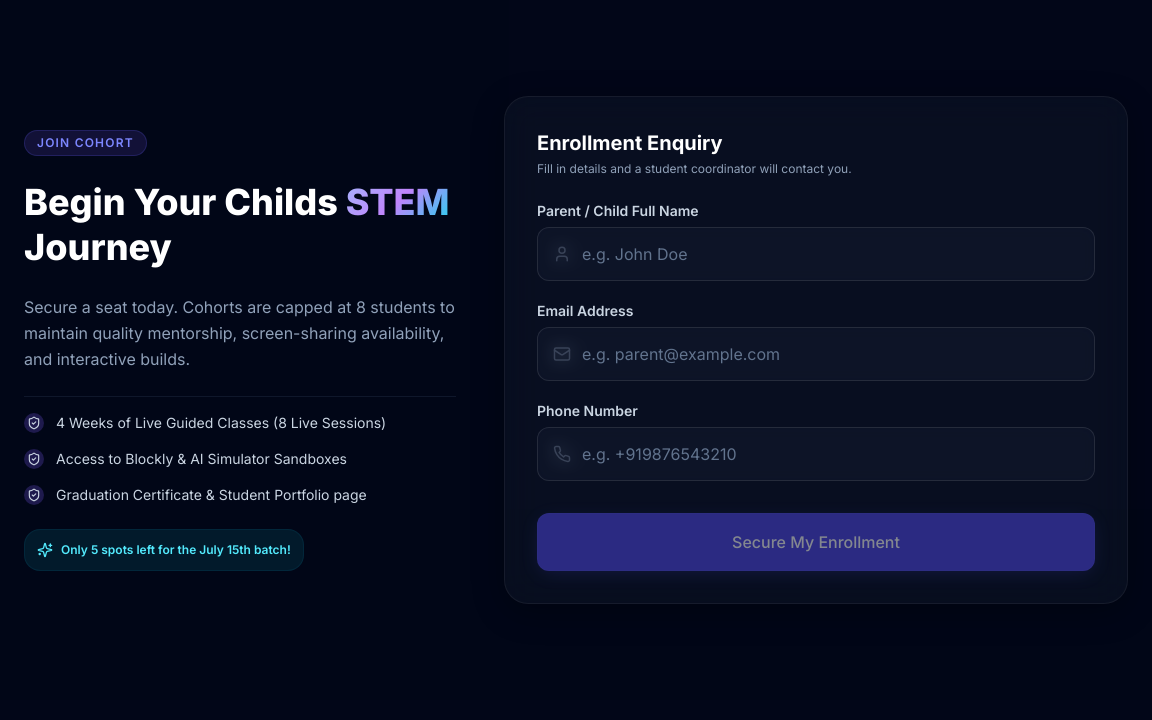
Test case: Registration Form Component › should display live validation errors when invalid information is input
# Enter invalid details
Type "A" into the field labelled "Parent / Child Full Name" at (816, 254), box [537, 227, 1095, 281]
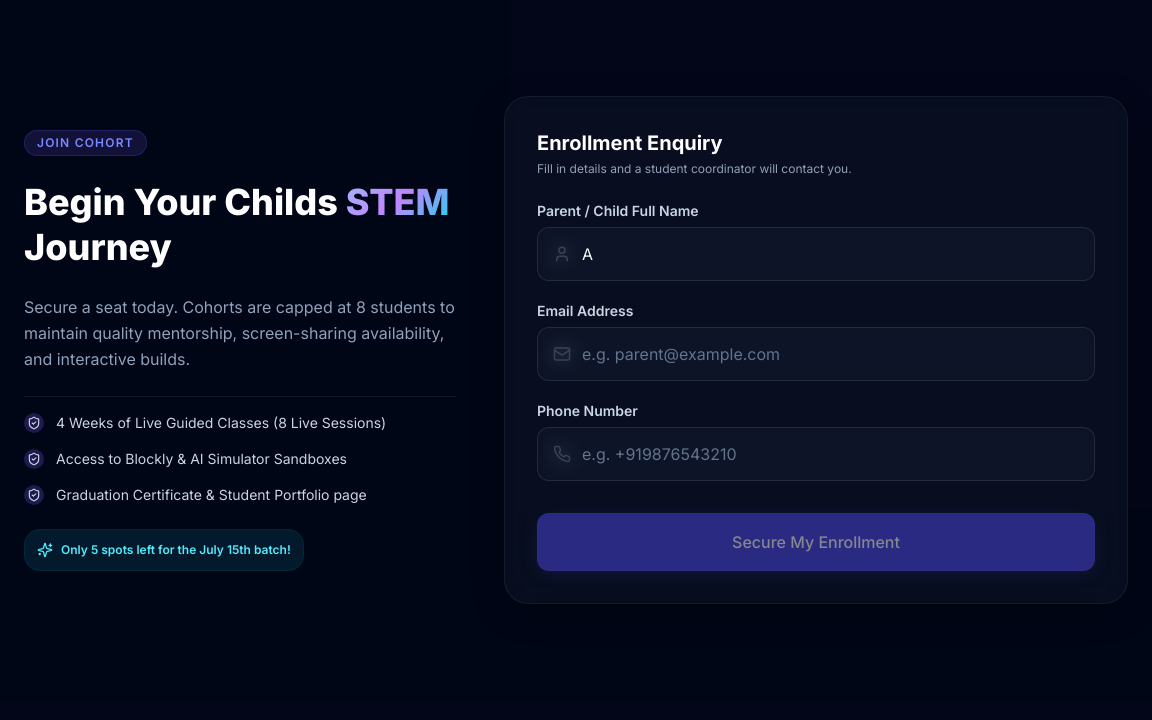
Type "not-an-email" into the field labelled "Email Address" at (816, 354), box [537, 327, 1095, 381]
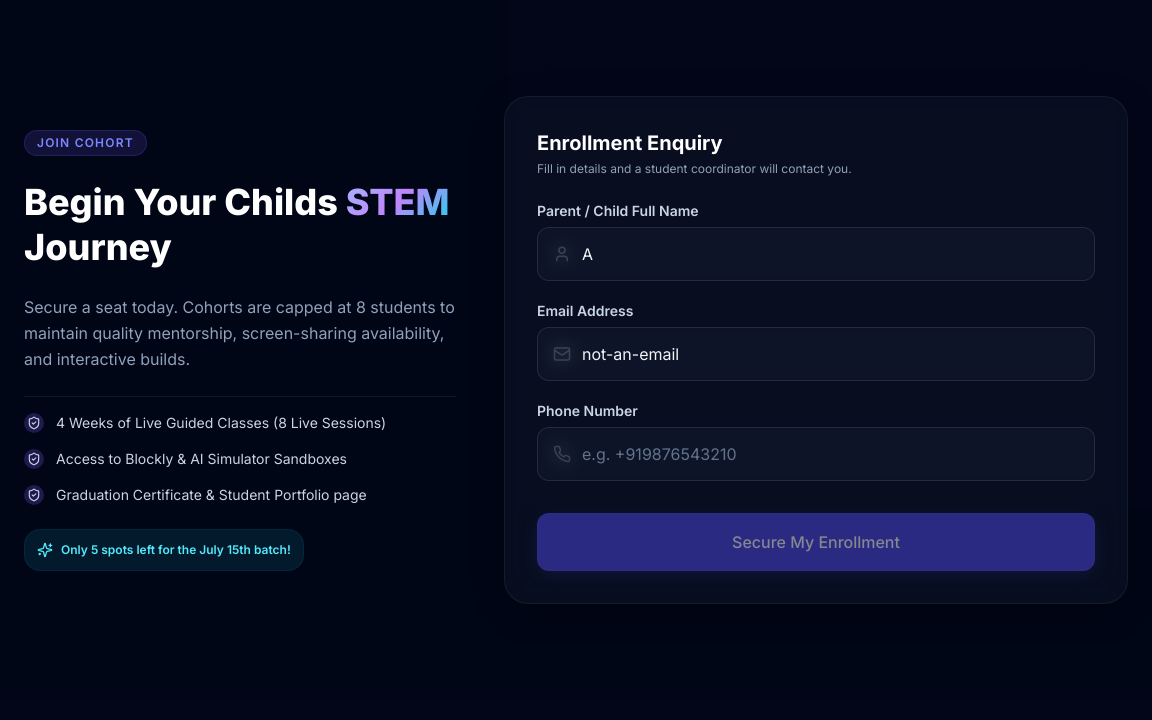
Type "123" into the field labelled "Phone Number" at (816, 454), box [537, 427, 1095, 481]
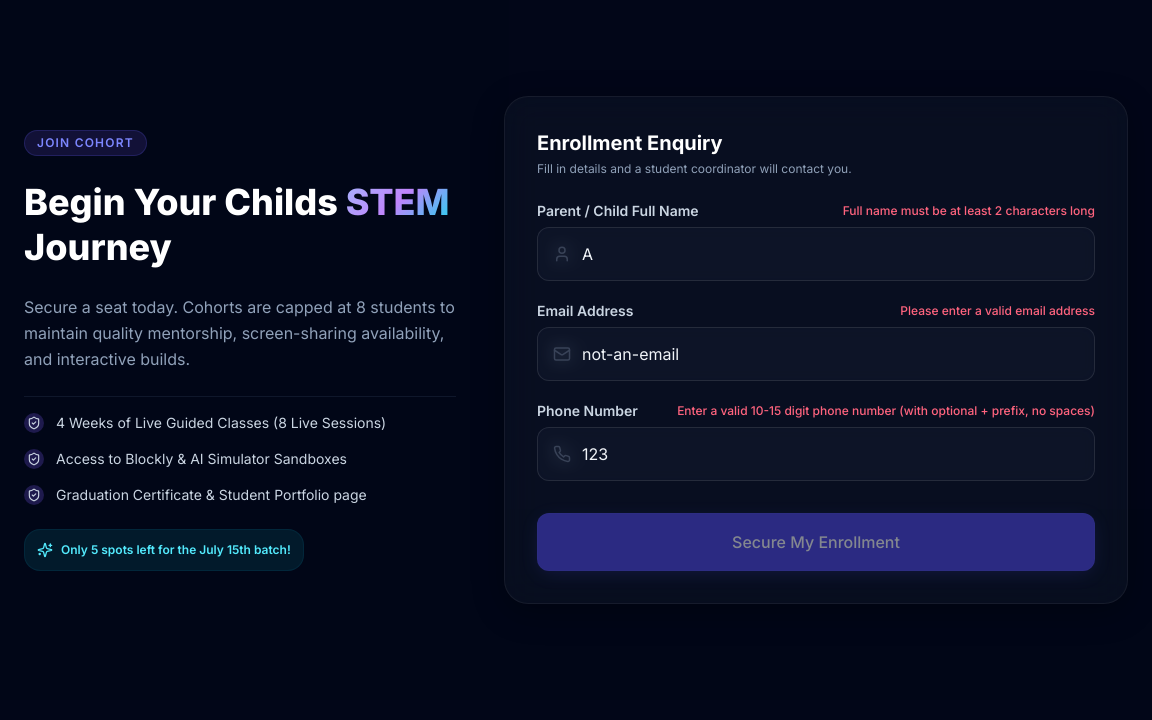
Result: the text "Full name must be at least 2 characters long" is shown at [843, 203, 1095, 219]
Result: the text "Please enter a valid email address" is shown at [900, 303, 1095, 319]
Result: the text "Enter a valid 10-15 digit phone number (with optional + prefix, no spaces)" is shown at [677, 403, 1095, 419]
